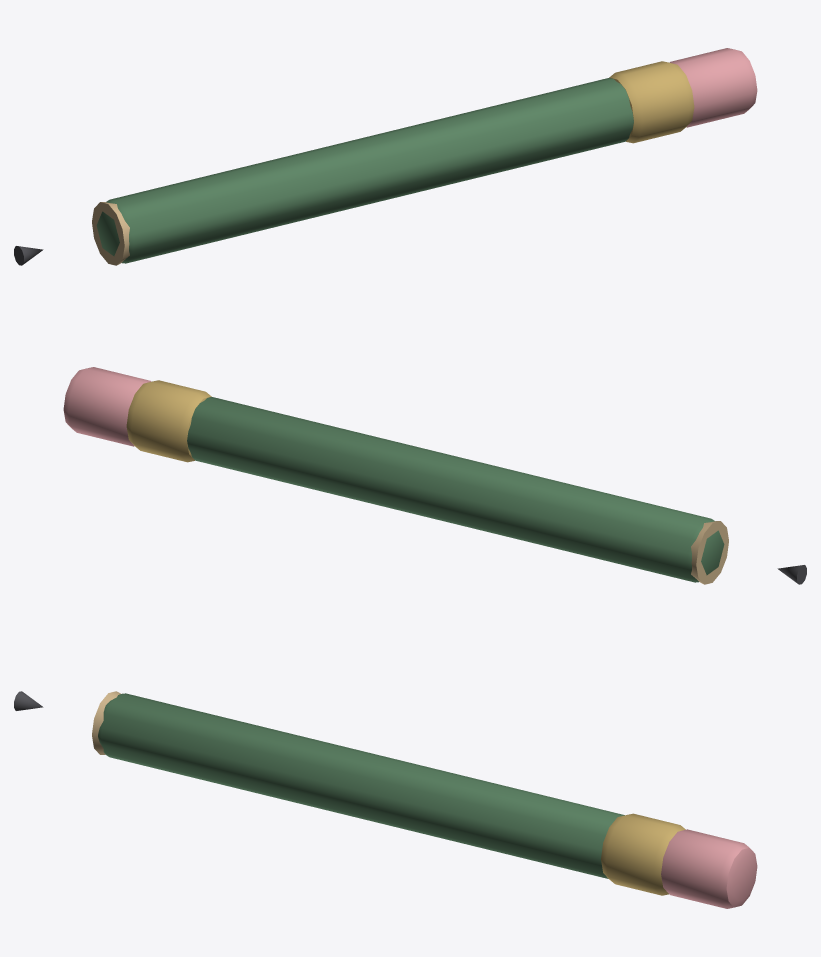
File: pf_pencil.glb
The picture shows the model from 3 angles, top to bottom: view 1: azimuth 30°, elevation 25°; view 2: azimuth 150°, elevation 25°; view 3: azimuth 330°, elevation 25°; orthographic projection.
Parts seen in each view (by area): view 1: pf_pencil_body; view 2: pf_pencil_body; view 3: pf_pencil_body.
Boxes of the visible parts, <box> form: pf_pencil_body: <box>14,48,757,265</box>; pf_pencil_body: <box>63,367,806,584</box>; pf_pencil_body: <box>14,691,757,908</box>.
Size of the model in its own units: 0.0927 by 0.009 by 0.009.
